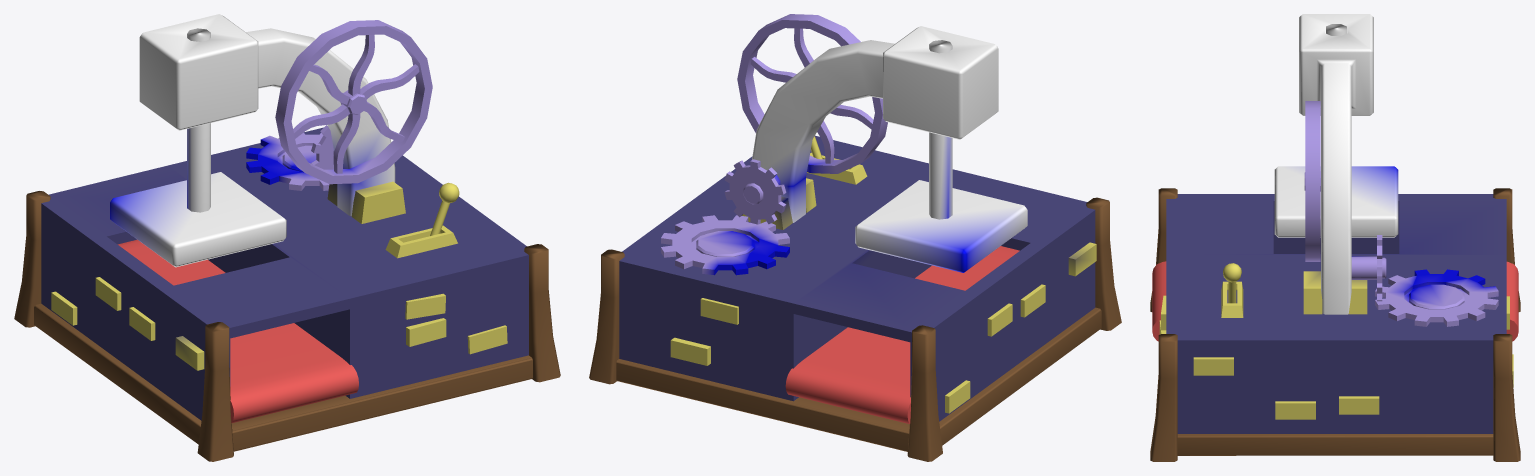
File: Kamieniolom.fbx
The picture shows the model from 3 angles, left to right: view 1: azimuth 30°, elevation 25°; view 2: azimuth 150°, elevation 25°; view 3: azimuth 270°, elevation 25°; orthographic projection. The views are drawn at different scales.
Visible parts, largest first — view 1: Cylinder.001, Cylinder.005, Cylinder.006, Cylinder.011, Cylinder.010, Cylinder.018; view 2: Cylinder.001, Cylinder.005, Cylinder.006, Cylinder.011, Cylinder.010; view 3: Cylinder.001, Cylinder.005, Cylinder.011, Cylinder.006, Cylinder.010, Cylinder.018.
Part boxes in pixels (<box>): Cylinder.001: <box>14,14,560,461</box>; Cylinder.005: <box>110,28,286,267</box>; Cylinder.006: <box>275,20,432,184</box>; Cylinder.011: <box>246,132,329,190</box>; Cylinder.010: <box>311,125,334,169</box>; Cylinder.018: <box>430,182,459,235</box>; Cylinder.001: <box>589,26,1121,461</box>; Cylinder.005: <box>855,40,1027,272</box>; Cylinder.006: <box>737,14,887,173</box>; Cylinder.011: <box>661,215,789,275</box>; Cylinder.010: <box>724,159,786,224</box>; Cylinder.001: <box>1150,14,1520,461</box>; Cylinder.005: <box>1274,24,1398,237</box>; Cylinder.011: <box>1375,269,1498,326</box>; Cylinder.006: <box>1304,101,1320,261</box>; Cylinder.010: <box>1351,235,1386,301</box>; Cylinder.018: <box>1223,263,1241,303</box>.
Size of the model in its own units: 200 by 182 by 195.
